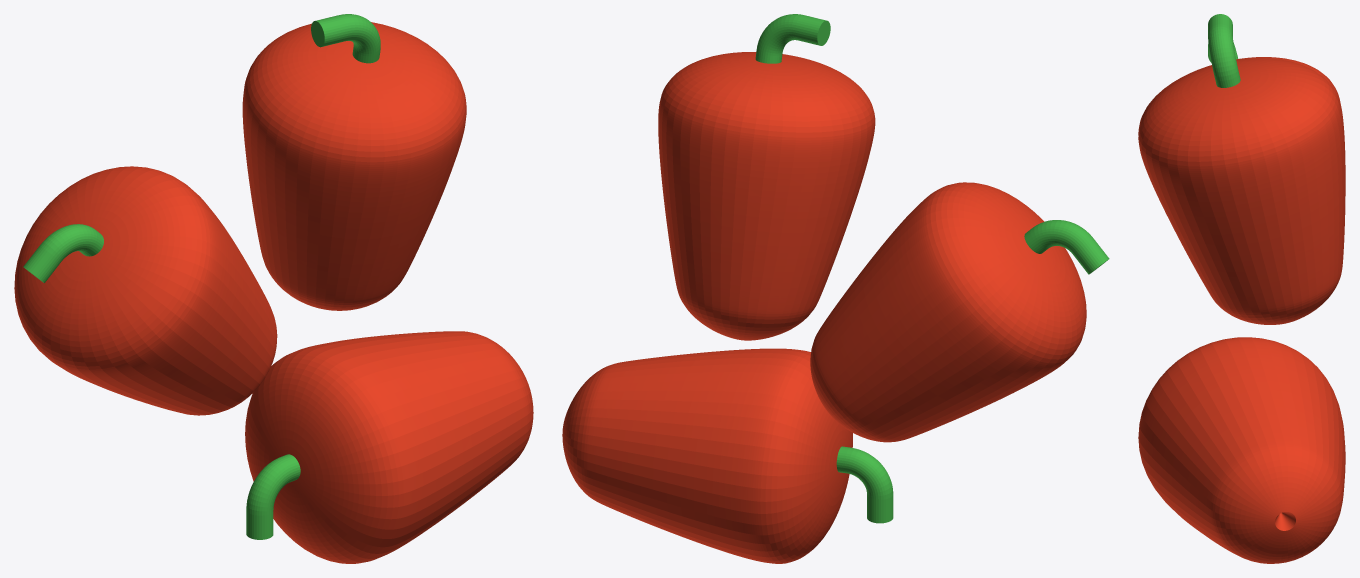
File: tinker.obj
3 views of the same model, side by side, from view 1: azimuth 30°, elevation 25°; view 2: azimuth 150°, elevation 25°; view 3: azimuth 270°, elevation 25° (orthographic). The views are drawn at different scales.
Visible parts, largest first — view 1: obj_4, obj_2, obj_0, obj_5, obj_1, obj_3; view 2: obj_2, obj_0, obj_4, obj_5, obj_1, obj_3; view 3: obj_2, obj_4, obj_3, obj_0.
Boxes of the visible parts, x1,y1,x2,y2 form: obj_4: (245, 331, 533, 563); obj_2: (242, 22, 466, 310); obj_0: (14, 166, 277, 415); obj_5: (246, 454, 300, 539); obj_1: (23, 224, 103, 282); obj_3: (311, 14, 380, 63); obj_2: (658, 52, 875, 340); obj_0: (810, 182, 1086, 442); obj_4: (562, 348, 852, 563); obj_5: (836, 446, 893, 523); obj_1: (1024, 220, 1109, 274); obj_3: (755, 14, 830, 63); obj_2: (1138, 58, 1345, 324); obj_4: (1138, 337, 1345, 563); obj_3: (1208, 14, 1240, 87); obj_0: (1138, 57, 1345, 324).
Bounding box in the file's own units: 16 × 16 × 6.05.
